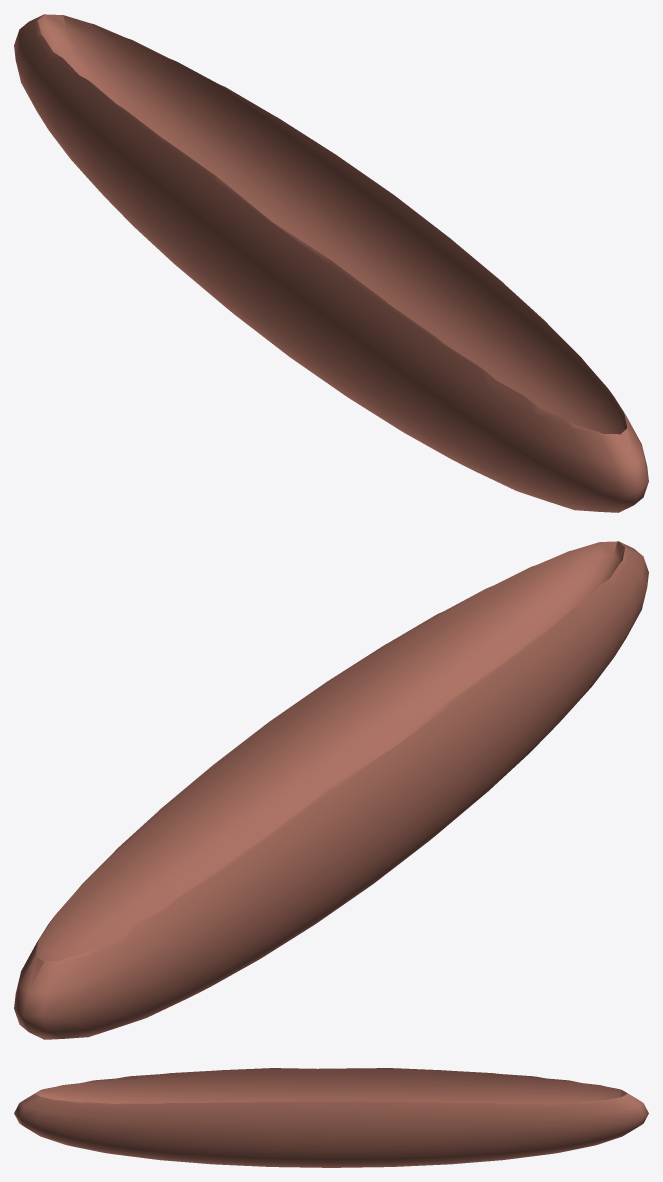
Rendered from boat.fbx.
3 renders of one model, top to bottom at view 1: azimuth 30°, elevation 25°; view 2: azimuth 150°, elevation 25°; view 3: azimuth 270°, elevation 25°, orthographic. The views are drawn at different scales.
Parts seen in each view (by area): view 1: pCube67; view 2: pCube67; view 3: pCube67.
Part boxes in pixels (x1,y1,x2,y2): pCube67: [14, 14, 648, 512]; pCube67: [14, 541, 648, 1039]; pCube67: [14, 1068, 648, 1167].
Bounding box in the file's own units: 0.5435 × 0.5684 × 4.01.
